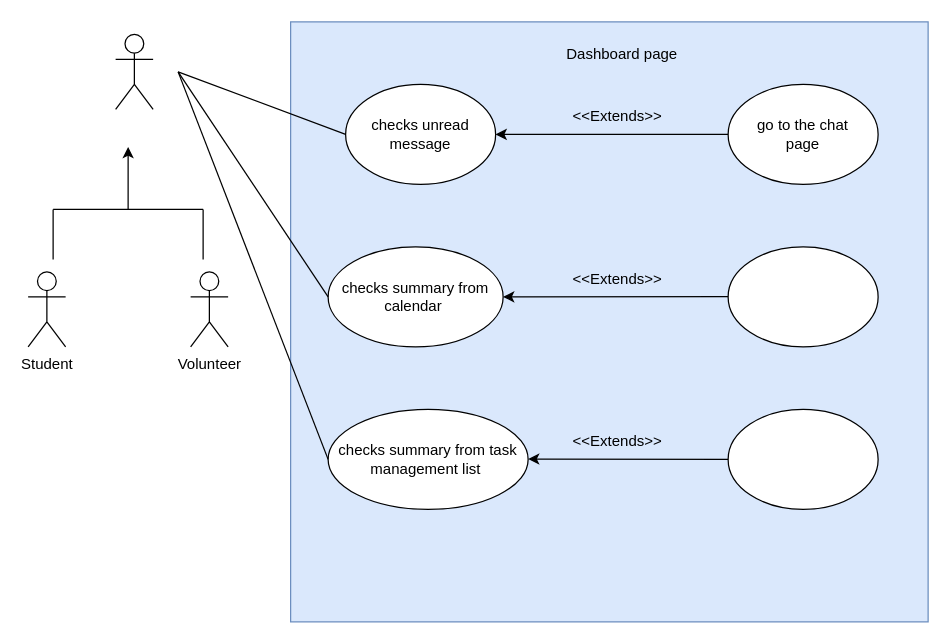
Some shapes in this 950 by 644 pixel diagram are drawn without their labels. Each missing label, with the centre of its shape:
"go to the calendar page" goes at (802,296).
"go to the task management page" goes at (802,458).
"User" goes at (133,71).
